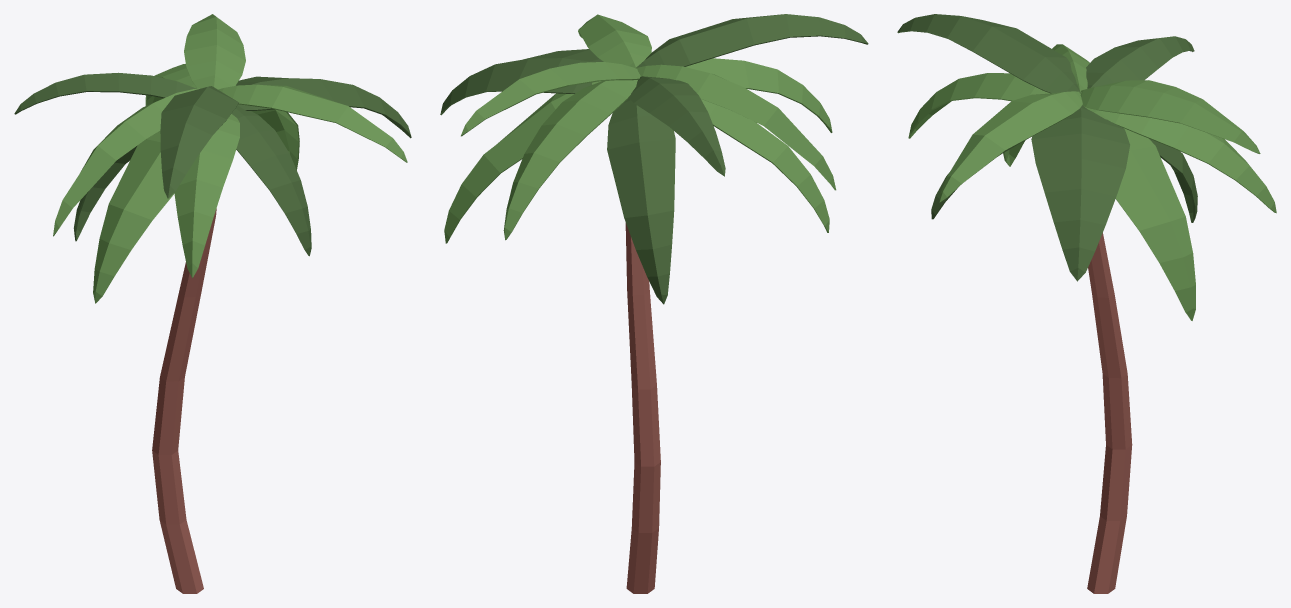
The model's file is PalmTree_3.glb.
3 renders of one model, left to right at view 1: azimuth 30°, elevation 25°; view 2: azimuth 150°, elevation 25°; view 3: azimuth 270°, elevation 25°, orthographic.
Visible parts, largest first — view 1: PalmTree_3; view 2: PalmTree_3; view 3: PalmTree_3.
Part boxes in pixels (bbox=[...]): PalmTree_3: bbox=[14, 14, 411, 593]; PalmTree_3: bbox=[440, 14, 868, 593]; PalmTree_3: bbox=[897, 14, 1276, 593].
Size of the model in its own units: 288 by 393 by 251.
